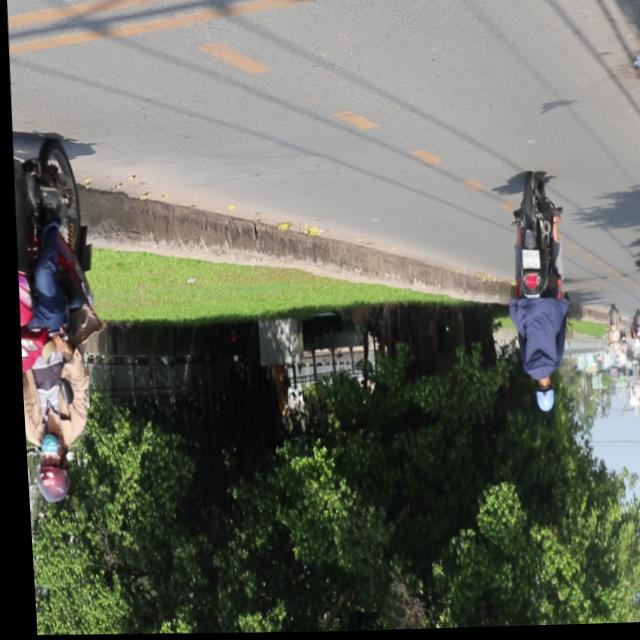helmet: (27, 436, 65, 504), (526, 379, 548, 415)
licenseplate: (6, 121, 114, 507), (492, 175, 572, 418)
nohelmet: (517, 251, 536, 271)
